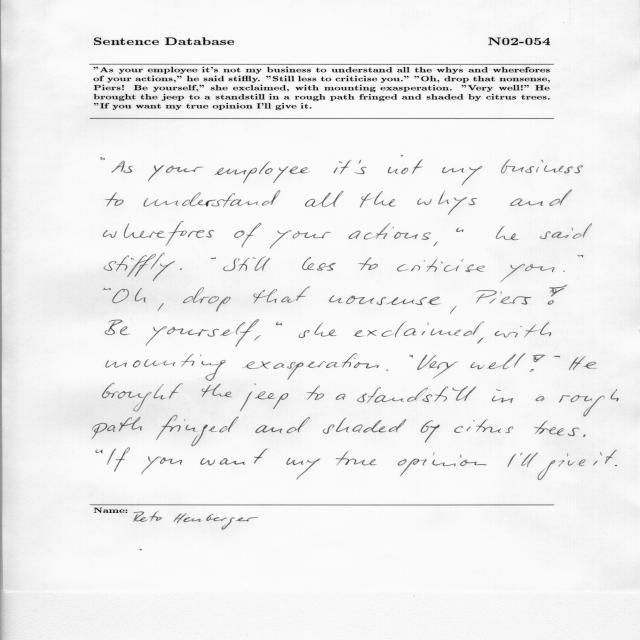word: (242, 353, 379, 380), (106, 354, 226, 381), (146, 319, 259, 347), (103, 221, 215, 246), (156, 415, 239, 446), (144, 190, 281, 207), (102, 383, 183, 411), (214, 161, 310, 183), (398, 453, 486, 477), (354, 322, 484, 338), (357, 386, 477, 403), (104, 253, 175, 281), (559, 389, 619, 417), (417, 191, 477, 215), (348, 223, 431, 240), (323, 417, 406, 434), (240, 383, 288, 411), (538, 453, 586, 480), (501, 159, 583, 174), (183, 287, 231, 312), (270, 230, 331, 249), (397, 259, 485, 272), (200, 449, 267, 466), (329, 295, 441, 305), (92, 417, 142, 439), (500, 264, 555, 283), (510, 190, 572, 206), (417, 355, 458, 379), (253, 287, 310, 304), (148, 165, 203, 181), (471, 354, 526, 370), (255, 417, 310, 433), (495, 322, 552, 337), (454, 420, 514, 434), (540, 223, 592, 239), (476, 290, 531, 305), (442, 166, 483, 185), (287, 458, 321, 480), (142, 457, 183, 475), (223, 257, 270, 272), (234, 223, 261, 248), (534, 421, 579, 436), (388, 155, 423, 174), (336, 451, 377, 466), (360, 191, 396, 208), (305, 191, 343, 207), (299, 323, 337, 338), (107, 448, 130, 472), (112, 288, 146, 303), (302, 257, 336, 271), (421, 420, 440, 443), (202, 384, 233, 398), (569, 357, 597, 371), (593, 450, 617, 466), (548, 285, 567, 305), (105, 320, 130, 335), (496, 226, 519, 240), (492, 389, 513, 403), (106, 192, 124, 207), (520, 453, 538, 468), (358, 258, 378, 271), (530, 355, 545, 372), (111, 161, 132, 173), (334, 160, 352, 174), (307, 386, 324, 400), (354, 160, 367, 174), (508, 454, 516, 467), (450, 305, 457, 314), (336, 394, 346, 400), (535, 396, 545, 401), (158, 304, 164, 312), (254, 335, 261, 341), (456, 227, 464, 232), (478, 338, 484, 344), (96, 450, 103, 454), (276, 322, 282, 326), (434, 242, 438, 246), (103, 288, 111, 290), (101, 157, 105, 160), (410, 354, 413, 358), (554, 356, 560, 358), (211, 257, 216, 259), (578, 255, 583, 257), (583, 434, 586, 437), (386, 369, 389, 371), (180, 268, 182, 270), (563, 271, 565, 272), (615, 465, 617, 466)
